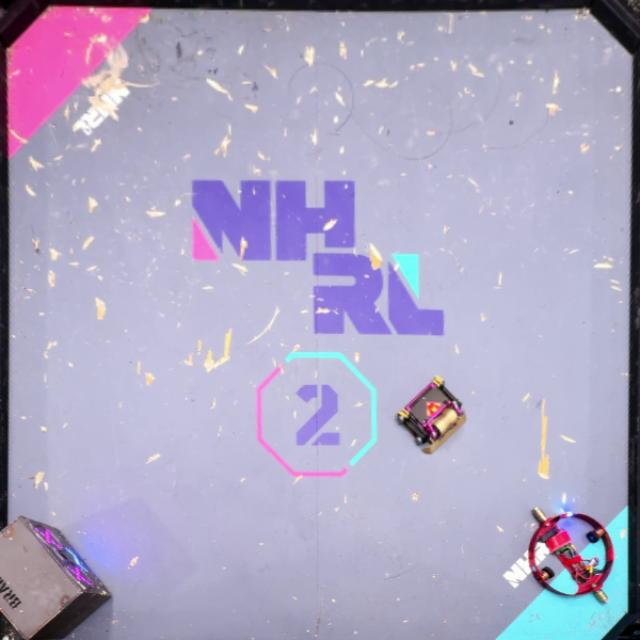housebot: (0, 515, 114, 640)
robot: (528, 507, 614, 603), (395, 376, 465, 454)
